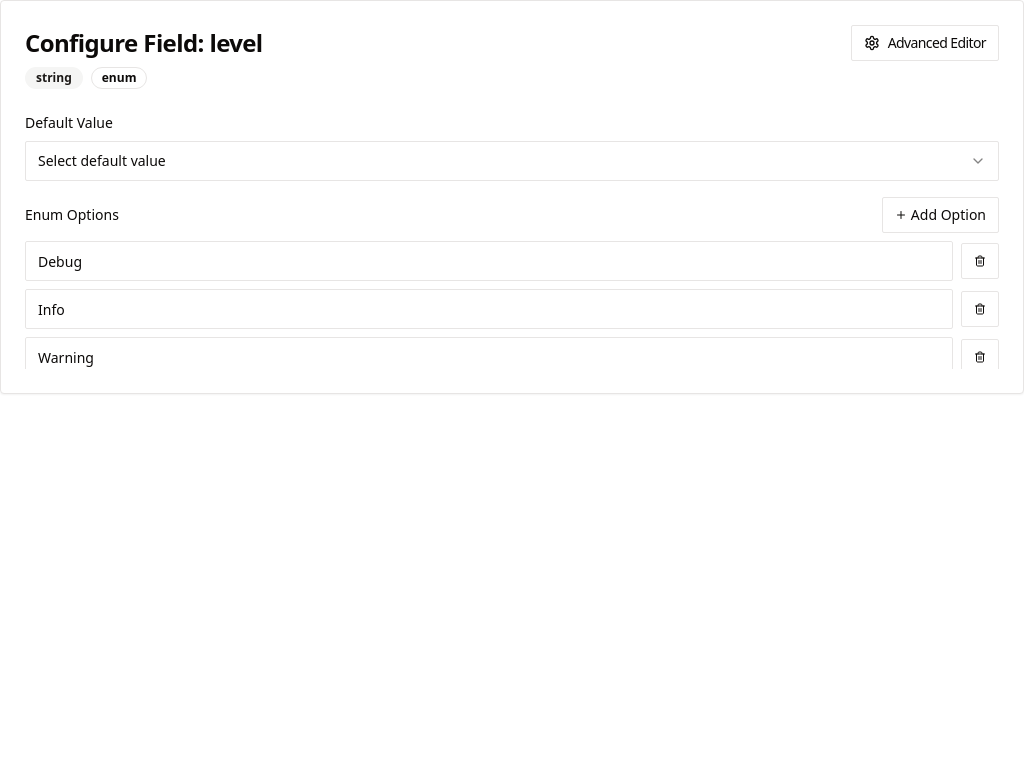
it: FieldConfigurationPanel - Enum Handling › Enhanced Editor Integration › should open enhanced editor when button is clicked
Click the button "Advanced Editor": (925, 43) [851,25,999,61]
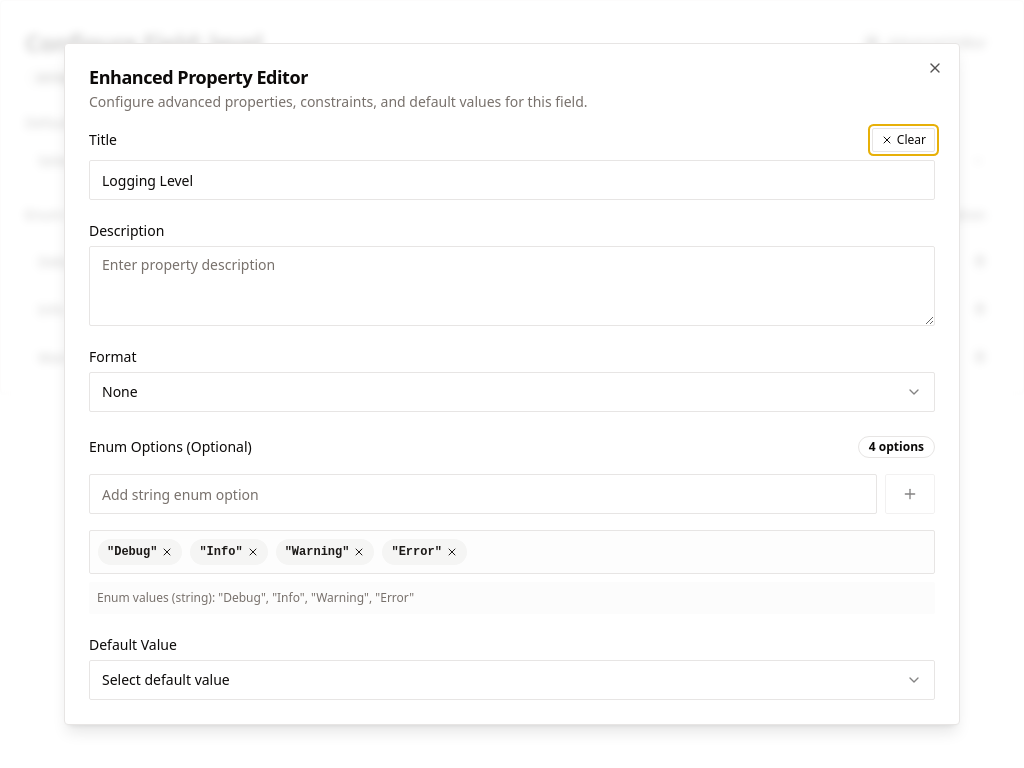
Expected: the heading "Enhanced Property Editor" is shown, [89,65,308,89]
